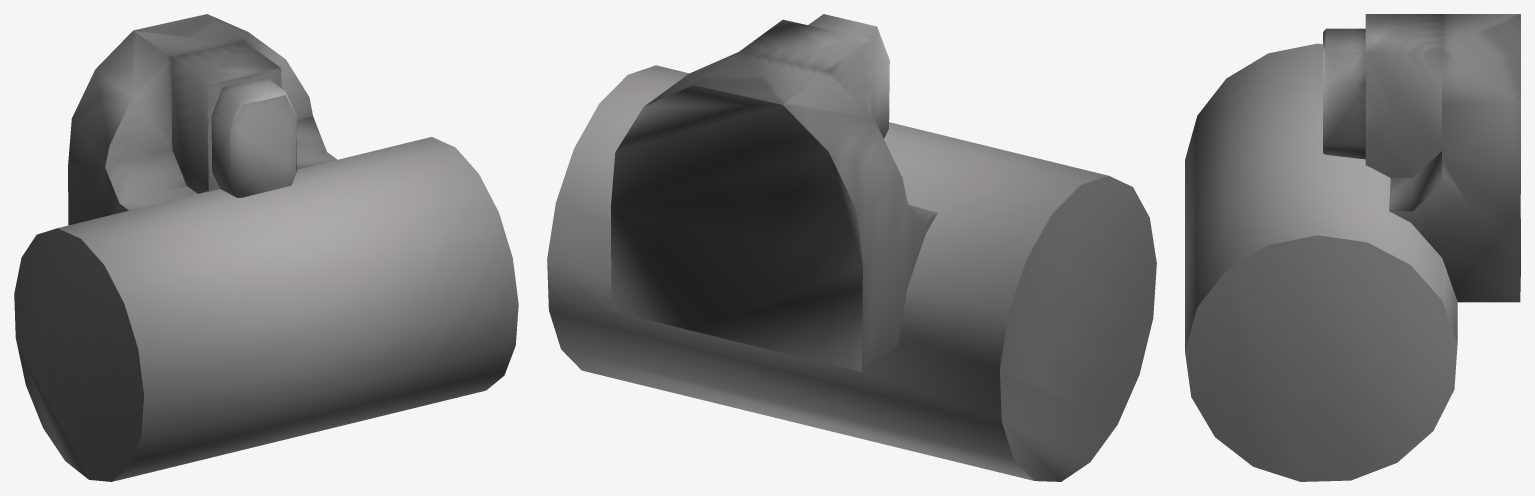
File: r_clav.dae
The picture shows the model from 3 angles, left to right: view 1: azimuth 30°, elevation 25°; view 2: azimuth 150°, elevation 25°; view 3: azimuth 270°, elevation 25°; orthographic projection. The views are drawn at different scales.
Visible parts, largest first — view 1: p38961_1, p39063_1, p39025_1; view 2: p38961_1, p39063_1, p39025_1; view 3: p38961_1, p39063_1, p39025_1.
Part boxes in pixels (x1,y1,x2,y2): p38961_1: [14, 137, 518, 481]; p39063_1: [68, 14, 337, 225]; p39025_1: [211, 77, 297, 197]; p38961_1: [547, 65, 1156, 481]; p39063_1: [611, 19, 937, 371]; p39025_1: [808, 14, 889, 138]; p38961_1: [1185, 43, 1457, 481]; p39063_1: [1365, 14, 1520, 302]; p39025_1: [1323, 28, 1365, 159].
Bounding box in the file's own units: 0.1525 × 0.1129 × 0.1308.
